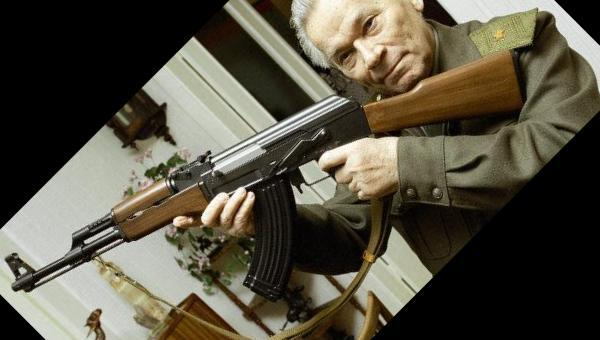larga: (4, 48, 526, 304)
